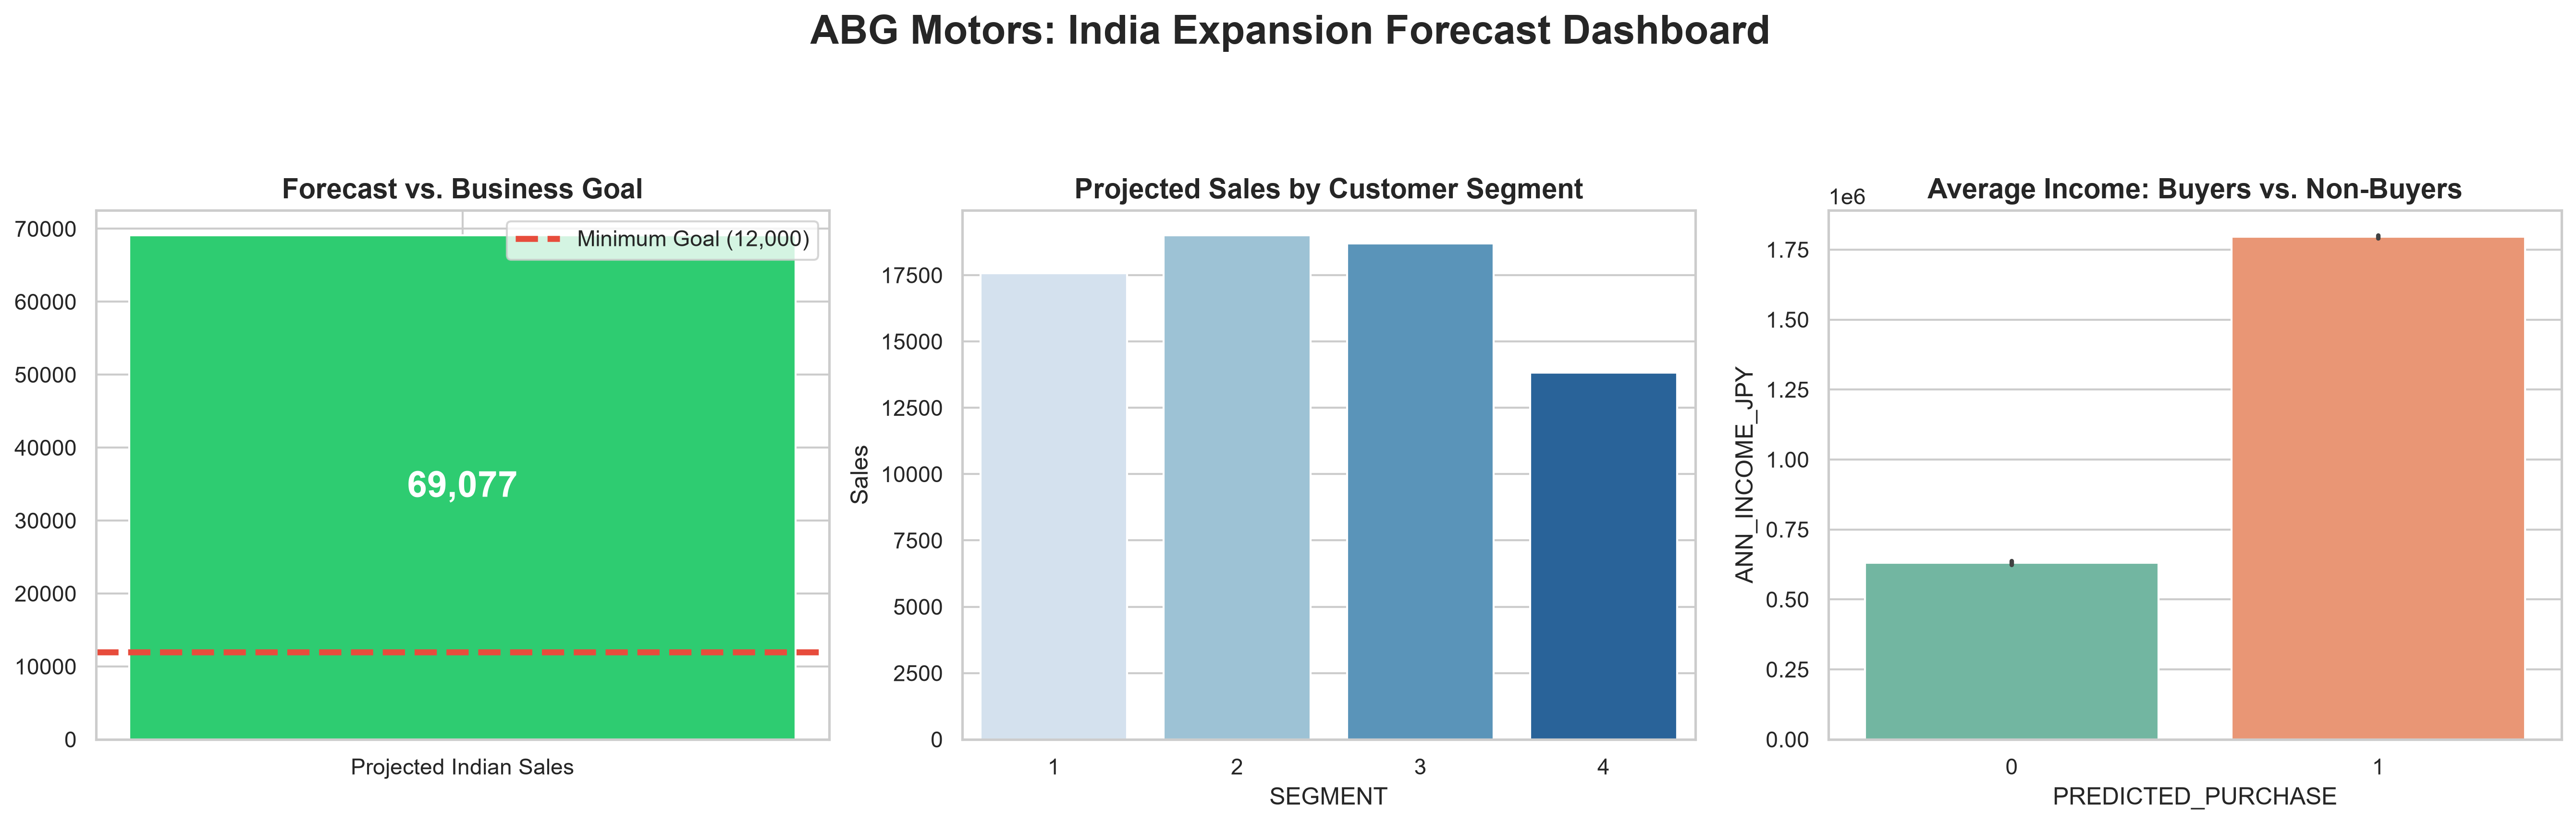

What the dashboard file says about the page in this screenshot:
{"tool":"tableau","page":{"name":"ABG Motors: India Expansion Forecast","canvas":[1000,1000],"units":"permille","ordinal":0},"visuals":[{"type":"title","box":[4.8,9.4,990.3,54.1]},{"type":"worksheet","title":"Forecast vs. Goal","mark":"Automatic","rows":["PREDICTED_PURCHASE"],"box":[4.8,63.5,366.3,463.6]},{"type":"worksheet","title":"Sales by Segment","mark":"Automatic","rows":["PREDICTED_PURCHASE"],"cols":["SEGMENT"],"box":[371.2,63.5,527.5,463.6]},{"type":"parameter","param":"[Parameters].[Parameter 1]","box":[898.6,63.5,96.6,65.8]},{"type":"legend","title":"Sales by Segment","param":"[federated.0d0lkwg070jc8w1dak4f10c4kqhm].[none:SEGMENT:ok]","box":[898.6,129.2,96.6,134]},{"type":"legend","title":"Income Comparison","param":"[federated.0d0lkwg070jc8w1dak4f10c4kqhm].[sum:PREDICTED_PURCHASE:qk]","box":[898.6,263.2,96.6,85.8]},{"type":"worksheet","title":"Income Comparison","mark":"Automatic","rows":["ANN_INCOME"],"cols":["PREDICTED_PURCHASE"],"box":[4.8,527,990.3,463.6]}]}

Visuals, with their boxes on the dashboard's canvas, which has no fixed pixel size, in thousandths of its width and height (x1, y1, x2, y2). These are canvas units, not pixel positions in the 2576x824 screenshot, which may show the page scaled, cropped or inside an application window:
title: rect(5, 9, 995, 64)
"Forecast vs. Goal" worksheet: rect(5, 64, 371, 527)
"Sales by Segment" worksheet: rect(371, 64, 899, 527)
parameter: rect(899, 64, 995, 129)
"Sales by Segment" legend: rect(899, 129, 995, 263)
"Income Comparison" legend: rect(899, 263, 995, 349)
"Income Comparison" worksheet: rect(5, 527, 995, 991)
